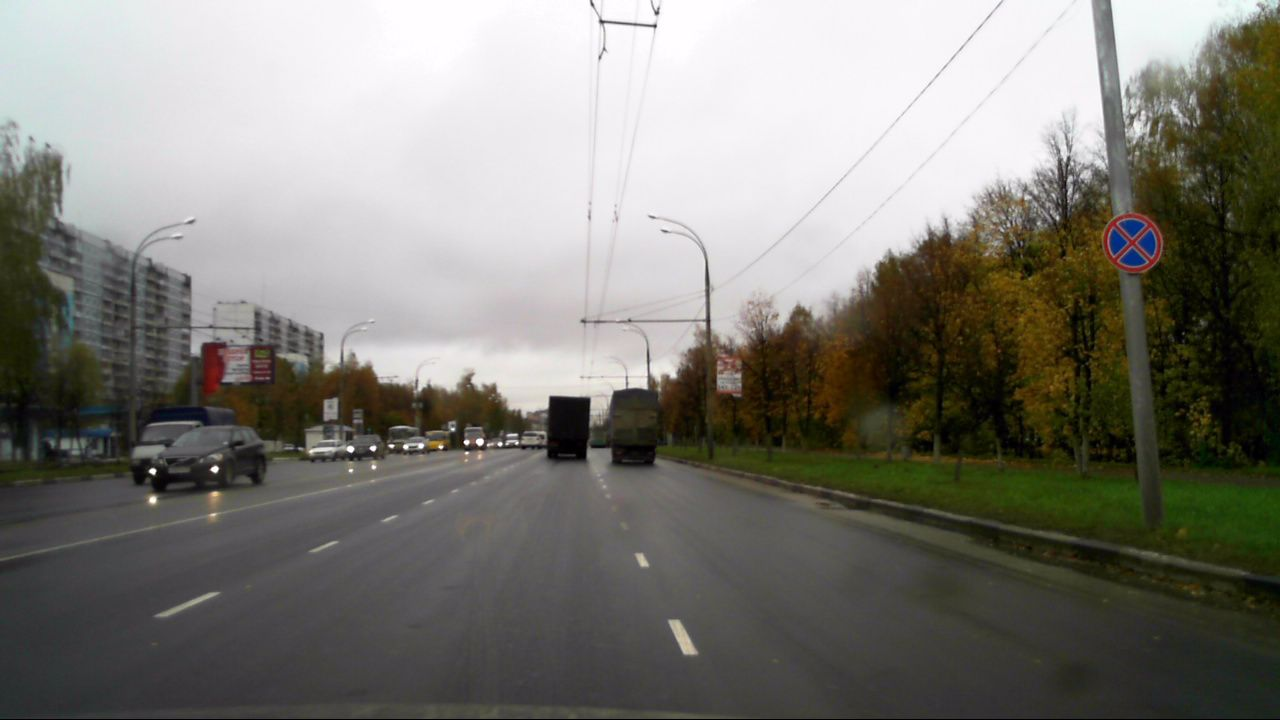No Parking: (1102, 211, 1164, 274)
